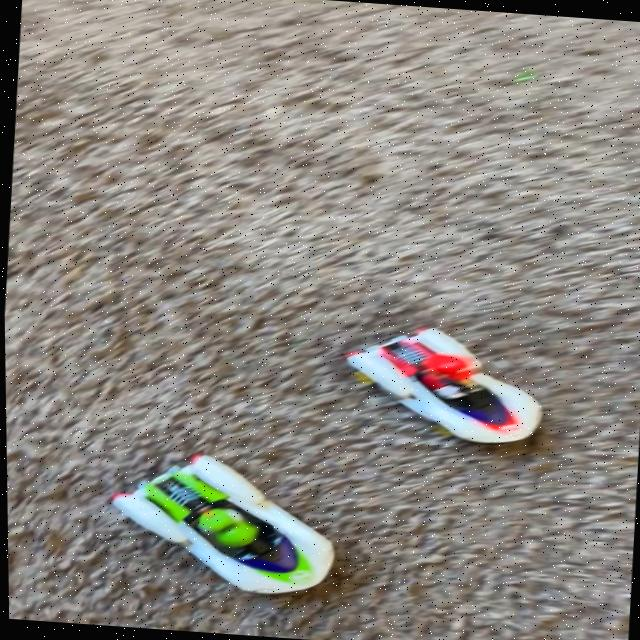mario: (328, 314, 570, 458)
yoshi: (92, 432, 358, 614)
